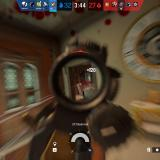Friend_label: (156, 67, 160, 72)
